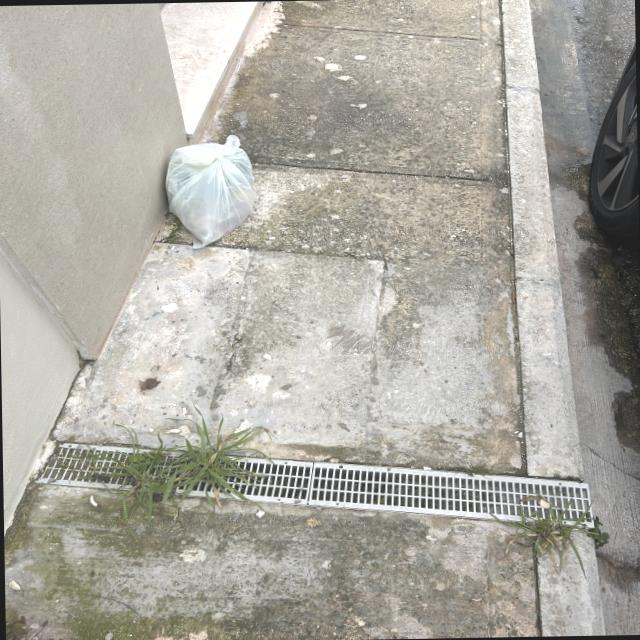white_bag: (162, 130, 259, 256)
